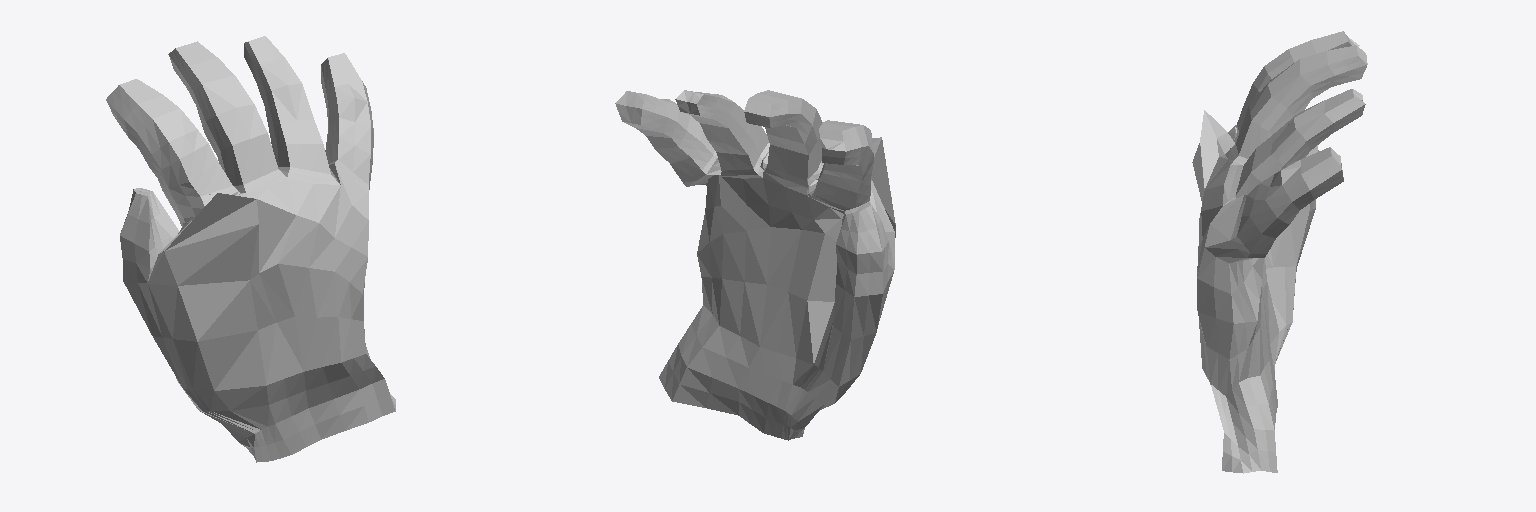
Rendered from hand_sub2_triang0026.obj.
3 views of the same model, side by side, from view 1: azimuth 30°, elevation 25°; view 2: azimuth 150°, elevation 25°; view 3: azimuth 270°, elevation 25° (orthographic).
Parts seen in each view (by area): view 1: Hand; view 2: Hand; view 3: Hand.
Part boxes in pixels (bbox=[...]): Hand: bbox=[106, 36, 395, 462]; Hand: bbox=[615, 90, 895, 440]; Hand: bbox=[1192, 31, 1367, 473].
Size of the model in its own units: 2.95 by 4.29 by 1.79.